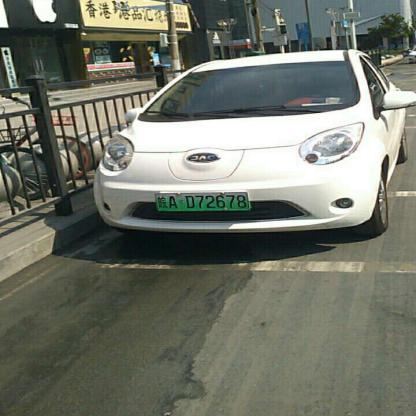lp: (153, 189, 250, 211)
